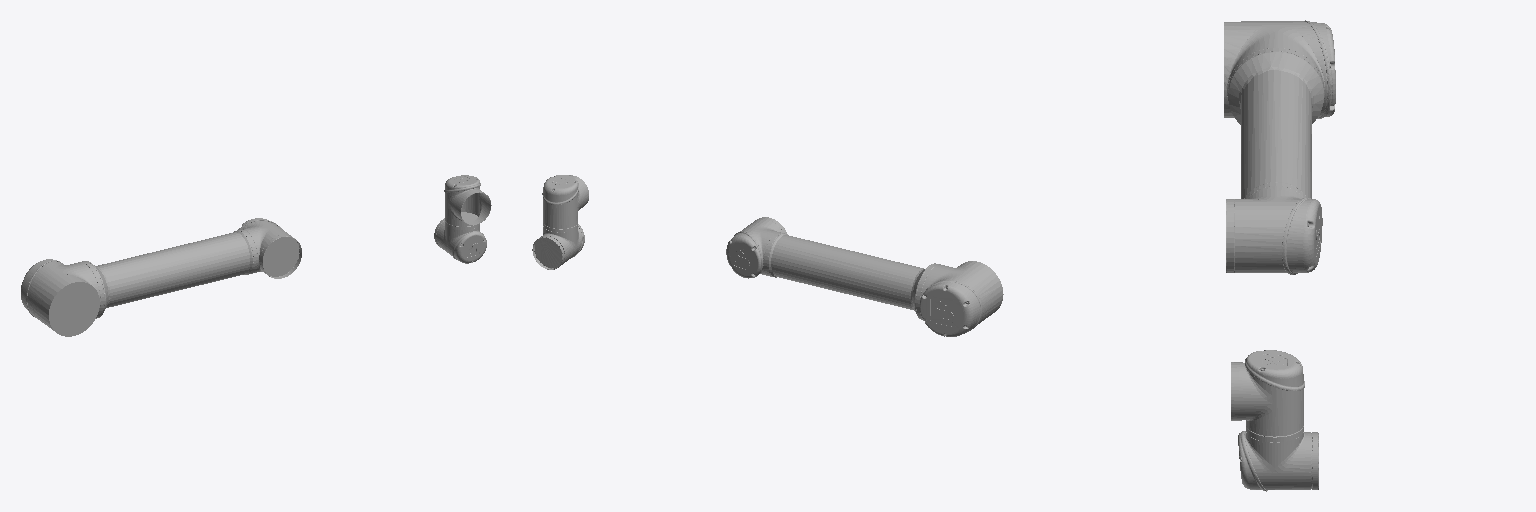
The robot description file, URDF, robot "ur10e_robot":
<?xml version="1.0" encoding="utf-8"?>
<robot name="ur10e_robot">
  <link name="base_link"/>
  <link name="base_link_inertia">
    <visual>
      <origin xyz="0.0 0.0 0.0" rpy="0.0 0.0 3.141592653589793"/>
      <geometry>
        <mesh filename="package://ur_description/meshes/ur10e/visual/base.obj"/>
      </geometry>
      <material name="LightGrey">
        <color rgba="0.7 0.7 0.7 1.0"/>
      </material>
    </visual>
    <collision>
      <origin xyz="0.0 0.0 0.0" rpy="0.0 0.0 3.141592653589793"/>
      <geometry>
        <mesh filename="package://ur_description/meshes/ur10e/collision/base.stl"/>
      </geometry>
    </collision>
    <inertial>
      <origin xyz="0.0 0.0 0.0" rpy="0.0 0.0 0.0"/>
      <mass value="4.0"/>
      <inertia ixx="0.0061063308908" ixy="0.0" ixz="0.0" iyy="0.0061063308908" iyz="0.0" izz="0.01125"/>
    </inertial>
  </link>
  <link name="shoulder_link">
    <visual>
      <origin xyz="0.0 0.0 0.0" rpy="0.0 0.0 3.141592653589793"/>
      <geometry>
        <mesh filename="package://ur_description/meshes/ur10e/visual/shoulder.obj"/>
      </geometry>
      <material name="LightGrey">
        <color rgba="0.7 0.7 0.7 1.0"/>
      </material>
    </visual>
    <collision>
      <origin xyz="0.0 0.0 0.0" rpy="0.0 0.0 3.141592653589793"/>
      <geometry>
        <mesh filename="package://ur_description/meshes/ur10e/collision/shoulder.stl"/>
      </geometry>
    </collision>
    <inertial>
      <origin xyz="0.0 0.0 0.0" rpy="0.0 0.0 0.0"/>
      <mass value="7.778"/>
      <inertia ixx="0.03147431257693659" ixy="0.0" ixz="0.0" iyy="0.03147431257693659" iyz="0.0" izz="0.021875624999999996"/>
    </inertial>
  </link>
  <link name="upper_arm_link">
    <visual>
      <origin xyz="0.0 0.0 0.1762" rpy="1.5707963267948966 0.0 -1.5707963267948966"/>
      <geometry>
        <mesh filename="package://ur_description/meshes/ur10e/visual/upperarm.obj"/>
      </geometry>
      <material name="LightGrey">
        <color rgba="0.7 0.7 0.7 1.0"/>
      </material>
    </visual>
    <collision>
      <origin xyz="0.0 0.0 0.1762" rpy="1.5707963267948966 0.0 -1.5707963267948966"/>
      <geometry>
        <mesh filename="package://ur_description/meshes/ur10e/collision/upperarm.stl"/>
      </geometry>
    </collision>
    <inertial>
      <origin xyz="-0.306 0.0 0.175" rpy="0.0 1.5707963267948966 0.0"/>
      <mass value="12.93"/>
      <inertia ixx="0.42175380379841093" ixy="0.0" ixz="0.0" iyy="0.42175380379841093" iyz="0.0" izz="0.03636562499999999"/>
    </inertial>
  </link>
  <link name="forearm_link">
    <visual>
      <origin xyz="0.0 0.0 0.0393" rpy="1.5707963267948966 0.0 -1.5707963267948966"/>
      <geometry>
        <mesh filename="package://ur_description/meshes/ur10e/visual/forearm.obj"/>
      </geometry>
      <material name="LightGrey">
        <color rgba="0.7 0.7 0.7 1.0"/>
      </material>
    </visual>
    <collision>
      <origin xyz="0.0 0.0 0.0393" rpy="1.5707963267948966 0.0 -1.5707963267948966"/>
      <geometry>
        <mesh filename="package://ur_description/meshes/ur10e/collision/forearm.stl"/>
      </geometry>
    </collision>
    <inertial>
      <origin xyz="-0.285775 0.0 0.0393" rpy="0.0 1.5707963267948966 0.0"/>
      <mass value="3.87"/>
      <inertia ixx="0.11079302548902206" ixy="0.0" ixz="0.0" iyy="0.11079302548902206" iyz="0.0" izz="0.010884375"/>
    </inertial>
  </link>
  <link name="wrist_1_link">
    <visual>
      <origin xyz="0.0 0.0 -0.135" rpy="1.5707963267948966 0.0 0.0"/>
      <geometry>
        <mesh filename="package://ur_description/meshes/ur10e/visual/wrist1.obj"/>
      </geometry>
      <material name="LightGrey">
        <color rgba="0.7 0.7 0.7 1.0"/>
      </material>
    </visual>
    <collision>
      <origin xyz="0.0 0.0 -0.135" rpy="1.5707963267948966 0.0 0.0"/>
      <geometry>
        <mesh filename="package://ur_description/meshes/ur10e/collision/wrist1.stl"/>
      </geometry>
    </collision>
    <inertial>
      <origin xyz="0.0 0.0 0.0" rpy="0.0 0.0 0.0"/>
      <mass value="1.96"/>
      <inertia ixx="0.005108247956699999" ixy="0.0" ixz="0.0" iyy="0.005108247956699999" iyz="0.0" izz="0.005512499999999999"/>
    </inertial>
  </link>
  <link name="wrist_2_link">
    <visual>
      <origin xyz="0.0 0.0 -0.12" rpy="0.0 0.0 0.0"/>
      <geometry>
        <mesh filename="package://ur_description/meshes/ur10e/visual/wrist2.obj"/>
      </geometry>
      <material name="LightGrey">
        <color rgba="0.7 0.7 0.7 1.0"/>
      </material>
    </visual>
    <collision>
      <origin xyz="0.0 0.0 -0.12" rpy="0.0 0.0 0.0"/>
      <geometry>
        <mesh filename="package://ur_description/meshes/ur10e/collision/wrist2.stl"/>
      </geometry>
    </collision>
    <inertial>
      <origin xyz="0.0 0.0 0.0" rpy="0.0 0.0 0.0"/>
      <mass value="1.96"/>
      <inertia ixx="0.005108247956699999" ixy="0.0" ixz="0.0" iyy="0.005108247956699999" iyz="0.0" izz="0.005512499999999999"/>
    </inertial>
  </link>
  <link name="wrist_3_link">
    <visual>
      <origin xyz="0.0 0.0 -0.1168" rpy="1.5707963267948966 0.0 0.0"/>
      <geometry>
        <mesh filename="package://ur_description/meshes/ur10e/visual/wrist3.obj"/>
      </geometry>
      <material name="LightGrey">
        <color rgba="0.7 0.7 0.7 1.0"/>
      </material>
    </visual>
    <collision>
      <origin xyz="0.0 0.0 -0.1168" rpy="1.5707963267948966 0.0 0.0"/>
      <geometry>
        <mesh filename="package://ur_description/meshes/ur10e/collision/wrist3.stl"/>
      </geometry>
    </collision>
    <inertial>
      <origin xyz="0.0 0.0 -0.025" rpy="0.0 0.0 0.0"/>
      <mass value="0.202"/>
      <inertia ixx="0.00014434577559500002" ixy="0.0" ixz="0.0" iyy="0.00014434577559500002" iyz="0.0" izz="0.00020452500000000002"/>
    </inertial>
  </link>
  <link name="base"/>
  <link name="flange"/>
  <link name="tool0"/>
  <joint name="base_link-base_link_inertia" type="fixed">
    <parent link="base_link"/>
    <child link="base_link_inertia"/>
    <axis xyz="1.0 0.0 0.0"/>
    <origin xyz="0.0 0.0 0.0" rpy="0.0 0.0 3.141592653589793"/>
  </joint>
  <joint name="shoulder_pan_joint" type="revolute">
    <parent link="base_link_inertia"/>
    <child link="shoulder_link"/>
    <axis xyz="0.0 0.0 1.0"/>
    <dynamics damping="0.0" friction="0.0"/>
    <limit lower="-6.283185307179586" upper="6.283185307179586" effort="330.0" velocity="2.0943951023931953"/>
    <origin xyz="0.0 0.0 0.1807" rpy="0.0 0.0 0.0"/>
  </joint>
  <joint name="shoulder_lift_joint" type="revolute">
    <parent link="shoulder_link"/>
    <child link="upper_arm_link"/>
    <axis xyz="0.0 0.0 1.0"/>
    <dynamics damping="0.0" friction="0.0"/>
    <limit lower="-6.283185307179586" upper="6.283185307179586" effort="330.0" velocity="2.0943951023931953"/>
    <origin xyz="0.0 0.0 0.0" rpy="1.570796327 0.0 0.0"/>
  </joint>
  <joint name="elbow_joint" type="revolute">
    <parent link="upper_arm_link"/>
    <child link="forearm_link"/>
    <axis xyz="0.0 0.0 1.0"/>
    <dynamics damping="0.0" friction="0.0"/>
    <limit lower="-3.141592653589793" upper="3.141592653589793" effort="150.0" velocity="3.141592653589793"/>
    <origin xyz="-0.6127 0.0 0.0" rpy="0.0 0.0 0.0"/>
  </joint>
  <joint name="wrist_1_joint" type="revolute">
    <parent link="forearm_link"/>
    <child link="wrist_1_link"/>
    <axis xyz="0.0 0.0 1.0"/>
    <dynamics damping="0.0" friction="0.0"/>
    <limit lower="-6.283185307179586" upper="6.283185307179586" effort="56.0" velocity="3.141592653589793"/>
    <origin xyz="-0.57155 0.0 0.17415" rpy="0.0 0.0 0.0"/>
  </joint>
  <joint name="wrist_2_joint" type="revolute">
    <parent link="wrist_1_link"/>
    <child link="wrist_2_link"/>
    <axis xyz="0.0 0.0 1.0"/>
    <dynamics damping="0.0" friction="0.0"/>
    <limit lower="-6.283185307179586" upper="6.283185307179586" effort="56.0" velocity="3.141592653589793"/>
    <origin xyz="0.0 -0.11985 -2.458164590756244e-11" rpy="1.570796327 0.0 0.0"/>
  </joint>
  <joint name="wrist_3_joint" type="revolute">
    <parent link="wrist_2_link"/>
    <child link="wrist_3_link"/>
    <axis xyz="0.0 0.0 1.0"/>
    <dynamics damping="0.0" friction="0.0"/>
    <limit lower="-6.283185307179586" upper="6.283185307179586" effort="56.0" velocity="3.141592653589793"/>
    <origin xyz="0.0 0.11655 -2.390480459346185e-11" rpy="-1.5707963270000003 1.2246467991473532e-16 -1.2246467991473532e-16"/>
  </joint>
  <joint name="base_link-base_fixed_joint" type="fixed">
    <parent link="base_link"/>
    <child link="base"/>
    <axis xyz="1.0 0.0 0.0"/>
    <origin xyz="0.0 0.0 0.0" rpy="0.0 0.0 3.141592653589793"/>
  </joint>
  <joint name="wrist_3-flange" type="fixed">
    <parent link="wrist_3_link"/>
    <child link="flange"/>
    <axis xyz="1.0 0.0 0.0"/>
    <origin xyz="0.0 0.0 0.0" rpy="-1.5707963267948966 -1.5707963267948966 0.0"/>
  </joint>
  <joint name="flange-tool0" type="fixed">
    <parent link="flange"/>
    <child link="tool0"/>
    <axis xyz="1.0 0.0 0.0"/>
    <origin xyz="0.0 0.0 0.0" rpy="1.5707963267948966 0.0 1.5707963267948966"/>
  </joint>
  <transmission name="wrist_3_trans">
    <type>transmission_interface/SimpleTransmission</type>
    <joint name="wrist_3_joint">
      <hardwareInterface>hardware_interface/PositionJointInterface</hardwareInterface>
    </joint>
    <actuator name="wrist_3_motor">
      <mechanicalReduction>1</mechanicalReduction>
    </actuator>
  </transmission>
</robot>

--- Render facts (derived) ---
The picture shows the robot from 3 angles, left to right: view 1: azimuth 30°, elevation 25°; view 2: azimuth 150°, elevation 25°; view 3: azimuth 270°, elevation 25°; orthographic projection.
Model ur10e_robot with 11 links and 10 joints (6 revolute, 4 fixed), rooted at base_link, posed every joint at zero.
Links seen in each view (by area): view 1: upper_arm_link, wrist_1_link, wrist_2_link; view 2: upper_arm_link, wrist_1_link, wrist_2_link; view 3: upper_arm_link, wrist_1_link, wrist_2_link.
Boxes of the visible links, x1,y1,x2,y2 form: upper_arm_link: [21, 218, 301, 336]; wrist_1_link: [444, 175, 491, 229]; wrist_2_link: [434, 218, 486, 263]; upper_arm_link: [726, 217, 1003, 336]; wrist_1_link: [542, 175, 588, 232]; wrist_2_link: [532, 224, 584, 269]; upper_arm_link: [1224, 20, 1335, 274]; wrist_1_link: [1231, 350, 1304, 442]; wrist_2_link: [1238, 431, 1318, 491].
Bounding box of the posed robot: 1.31 × 0.1746 × 0.2427 m (x, y, z).
Meshes: 7 distinct files referenced, 3 mesh visuals loaded (3 OBJ); not drawn: 4 (reference not matched to a file when rendering).